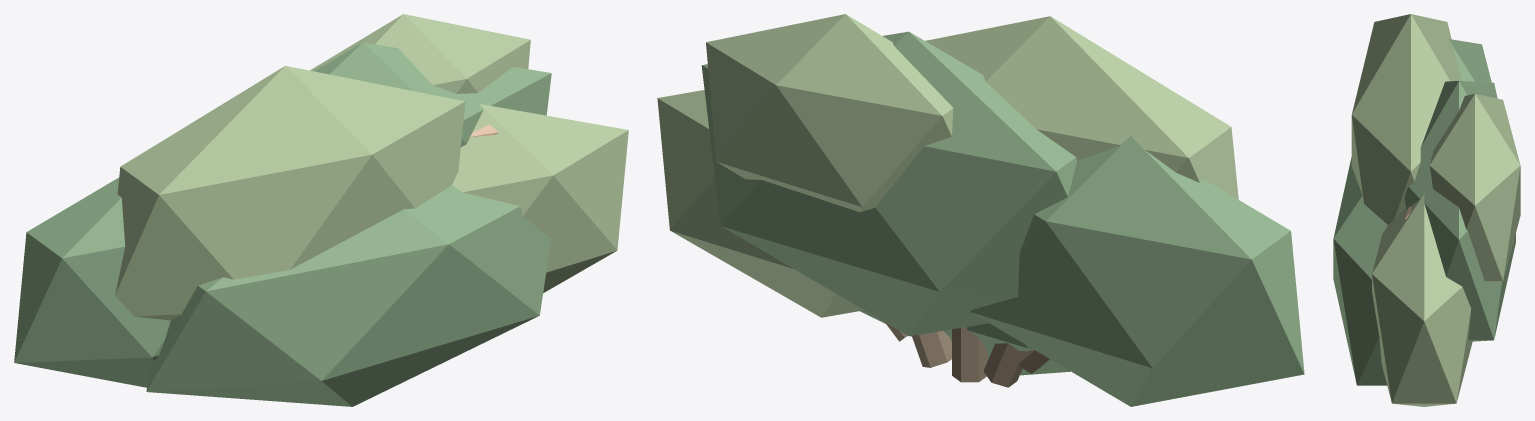
File: SHRUB_COASTAL_LOW_001_LOD_CLOSE.glb
3 renders of one model, left to right at view 1: azimuth 30°, elevation 25°; view 2: azimuth 150°, elevation 25°; view 3: azimuth 270°, elevation 25°, orthographic. The views are drawn at different scales.
Visible parts, largest first — view 1: SHRUB_COASTAL_LOW_001_LOD_CLOSE_CLUSTER_002, SHRUB_COASTAL_LOW_001_LOD_CLOSE_CLUSTER_005, SHRUB_COASTAL_LOW_001_LOD_CLOSE_CLUSTER_001, SHRUB_COASTAL_LOW_001_LOD_CLOSE_CLUSTER_004, SHRUB_COASTAL_LOW_001_LOD_CLOSE_CLUSTER_006, SHRUB_COASTAL_LOW_001_LOD_CLOSE_CLUSTER_003; view 2: SHRUB_COASTAL_LOW_001_LOD_CLOSE_CLUSTER_001, SHRUB_COASTAL_LOW_001_LOD_CLOSE_CLUSTER_003, SHRUB_COASTAL_LOW_001_LOD_CLOSE_CLUSTER_006, SHRUB_COASTAL_LOW_001_LOD_CLOSE_CLUSTER_002, SHRUB_COASTAL_LOW_001_LOD_CLOSE_CLUSTER_004, SHRUB_COASTAL_LOW_001_LOD_CLOSE_BRANCH_003, SHRUB_COASTAL_LOW_001_LOD_CLOSE_CLUSTER_005, SHRUB_COASTAL_LOW_001_LOD_CLOSE_BRANCH_002, SHRUB_COASTAL_LOW_001_LOD_CLOSE_BRANCH_004; view 3: SHRUB_COASTAL_LOW_001_LOD_CLOSE_CLUSTER_004, SHRUB_COASTAL_LOW_001_LOD_CLOSE_CLUSTER_002, SHRUB_COASTAL_LOW_001_LOD_CLOSE_CLUSTER_006, SHRUB_COASTAL_LOW_001_LOD_CLOSE_CLUSTER_003, SHRUB_COASTAL_LOW_001_LOD_CLOSE_CLUSTER_005, SHRUB_COASTAL_LOW_001_LOD_CLOSE_CLUSTER_001.
Part boxes in pixels (bbox=[...]): SHRUB_COASTAL_LOW_001_LOD_CLOSE_CLUSTER_002: bbox=[115, 66, 465, 320]; SHRUB_COASTAL_LOW_001_LOD_CLOSE_CLUSTER_005: bbox=[146, 185, 551, 406]; SHRUB_COASTAL_LOW_001_LOD_CLOSE_CLUSTER_001: bbox=[14, 177, 170, 387]; SHRUB_COASTAL_LOW_001_LOD_CLOSE_CLUSTER_004: bbox=[452, 104, 628, 292]; SHRUB_COASTAL_LOW_001_LOD_CLOSE_CLUSTER_006: bbox=[310, 14, 530, 93]; SHRUB_COASTAL_LOW_001_LOD_CLOSE_CLUSTER_003: bbox=[314, 42, 551, 146]; SHRUB_COASTAL_LOW_001_LOD_CLOSE_CLUSTER_001: bbox=[970, 136, 1304, 406]; SHRUB_COASTAL_LOW_001_LOD_CLOSE_CLUSTER_003: bbox=[701, 31, 1076, 336]; SHRUB_COASTAL_LOW_001_LOD_CLOSE_CLUSTER_006: bbox=[706, 14, 953, 212]; SHRUB_COASTAL_LOW_001_LOD_CLOSE_CLUSTER_002: bbox=[925, 16, 1238, 199]; SHRUB_COASTAL_LOW_001_LOD_CLOSE_CLUSTER_004: bbox=[657, 90, 863, 317]; SHRUB_COASTAL_LOW_001_LOD_CLOSE_BRANCH_003: bbox=[952, 327, 987, 382]; SHRUB_COASTAL_LOW_001_LOD_CLOSE_CLUSTER_005: bbox=[859, 310, 1070, 375]; SHRUB_COASTAL_LOW_001_LOD_CLOSE_BRANCH_002: bbox=[983, 343, 1022, 387]; SHRUB_COASTAL_LOW_001_LOD_CLOSE_BRANCH_004: bbox=[912, 331, 951, 367]; SHRUB_COASTAL_LOW_001_LOD_CLOSE_CLUSTER_004: bbox=[1372, 194, 1472, 406]; SHRUB_COASTAL_LOW_001_LOD_CLOSE_CLUSTER_002: bbox=[1351, 14, 1461, 224]; SHRUB_COASTAL_LOW_001_LOD_CLOSE_CLUSTER_006: bbox=[1429, 93, 1520, 282]; SHRUB_COASTAL_LOW_001_LOD_CLOSE_CLUSTER_003: bbox=[1404, 81, 1515, 341]; SHRUB_COASTAL_LOW_001_LOD_CLOSE_CLUSTER_005: bbox=[1333, 157, 1387, 385]; SHRUB_COASTAL_LOW_001_LOD_CLOSE_CLUSTER_001: bbox=[1448, 39, 1491, 82].
Bounding box in the file's own units: 2.45 × 1.38 × 0.6998.
